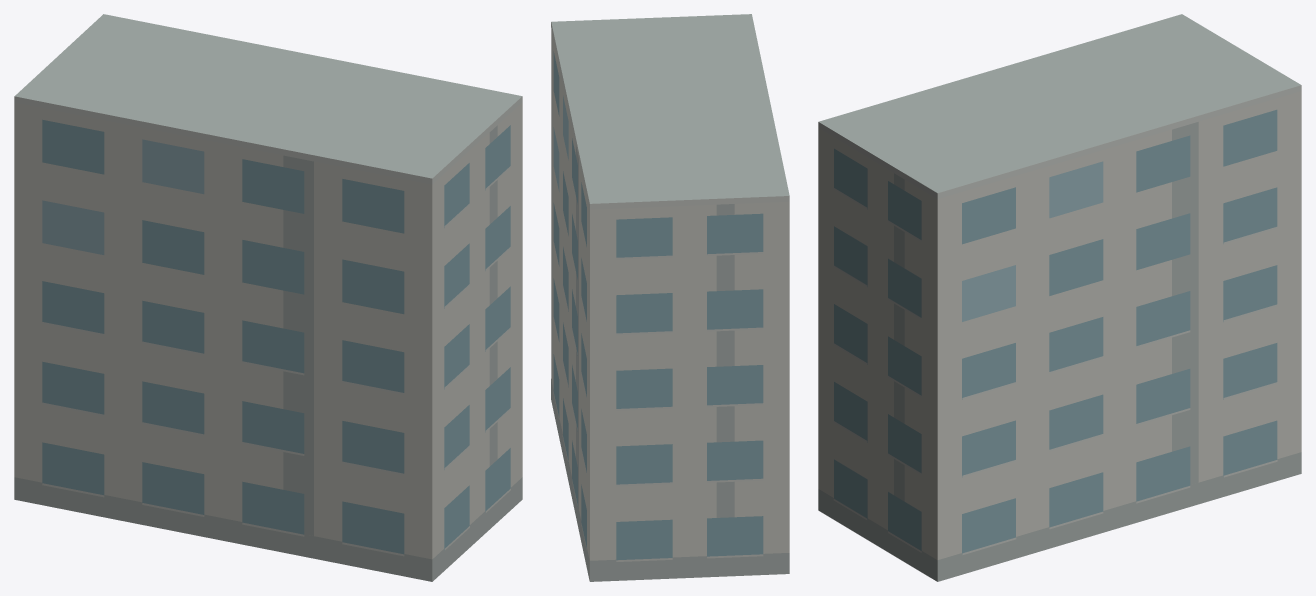
File: survey-upis-32892102.glb
The picture shows the model from 3 angles, left to right: view 1: azimuth 30°, elevation 25°; view 2: azimuth 150°, elevation 25°; view 3: azimuth 270°, elevation 25°; orthographic projection. The views are drawn at different scales.
Visible parts, largest first — view 1: survey-upis-32892102.tmp; view 2: survey-upis-32892102.tmp; view 3: survey-upis-32892102.tmp.
Part boxes in pixels (x1=…): survey-upis-32892102.tmp: x1=14, y1=14, x2=522, y2=581; survey-upis-32892102.tmp: x1=551, y1=14, x2=789, y2=581; survey-upis-32892102.tmp: x1=818, y1=14, x2=1301, y2=581.
Bounding box in the file's own units: 15.64 × 15.8 × 17.82.
